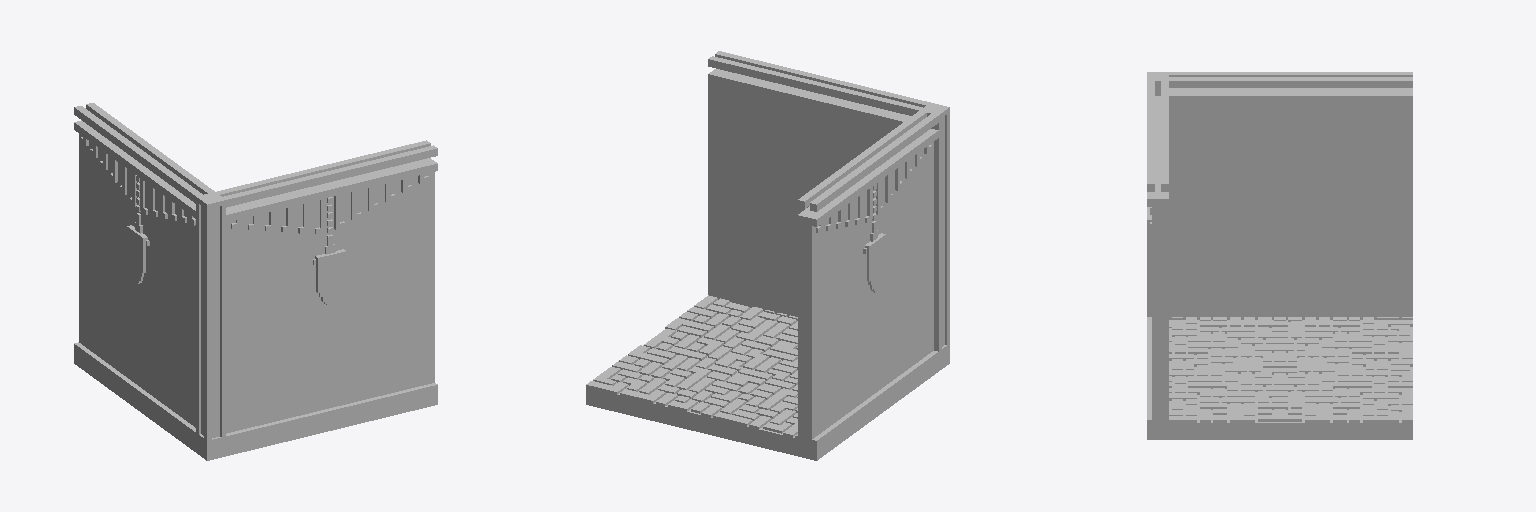
The model's file is CityOuterWallCorner-0.obj.
3 renders of one model, left to right at view 1: azimuth 30°, elevation 25°; view 2: azimuth 150°, elevation 25°; view 3: azimuth 270°, elevation 25°, orthographic.
Parts seen in each view (by area): view 1: object 1; view 2: object 1; view 3: object 1.
Boxes of the visible parts, <box> form: object 1: <box>74,103,437,460</box>; object 1: <box>586,51,949,460</box>; object 1: <box>1147,72,1412,439</box>.
Bounding box in the file's own units: 9.6 × 10.2 × 9.6.